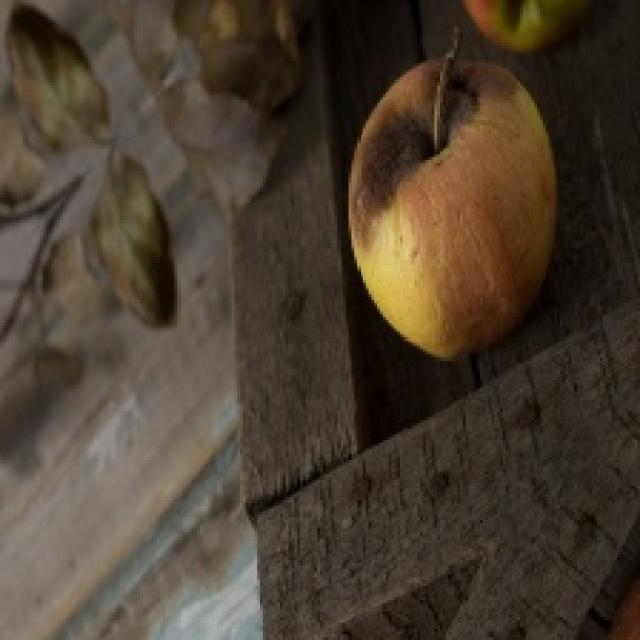rotten_apple: (356, 58, 556, 354)
